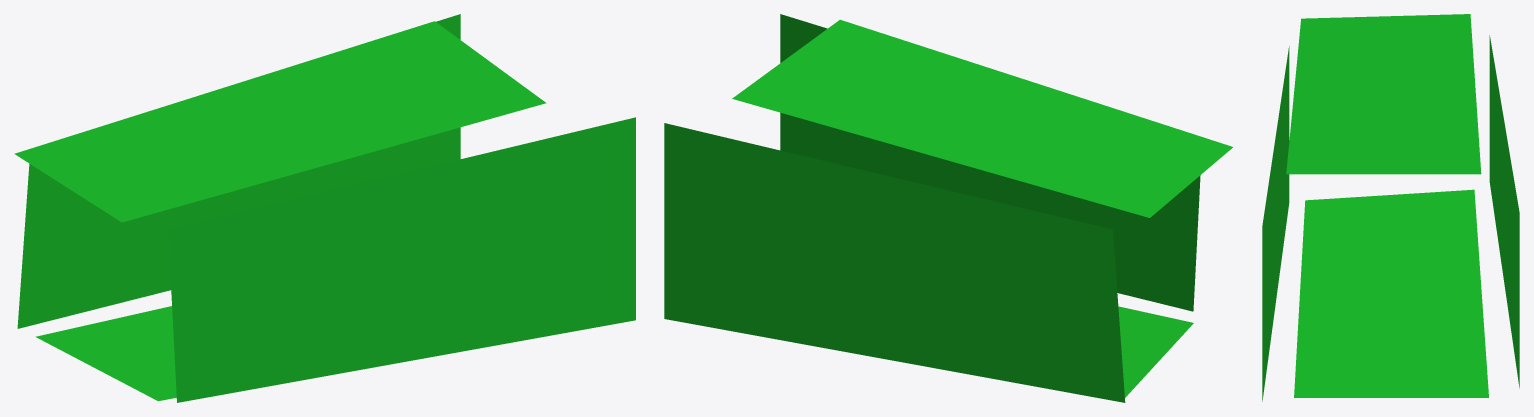
The model's file is leek002.fbx.
The picture shows the model from 3 angles, left to right: view 1: azimuth 30°, elevation 25°; view 2: azimuth 150°, elevation 25°; view 3: azimuth 270°, elevation 25°; orthographic projection. The views are drawn at different scales.
Parts seen in each view (by area): view 1: leek002; view 2: leek002; view 3: leek002.
Part boxes in pixels (<box>): leek002: <box>14,14,635,402</box>; leek002: <box>664,14,1232,402</box>; leek002: <box>1262,14,1519,401</box>.
Size of the model in its own units: 44.4 by 19.5 by 22.62.
